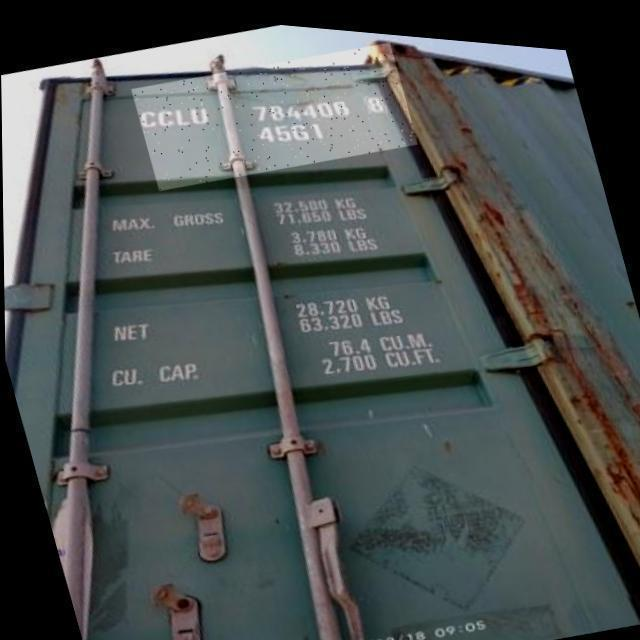ISO: (261, 116, 329, 144)
container_number: (136, 92, 385, 125)
